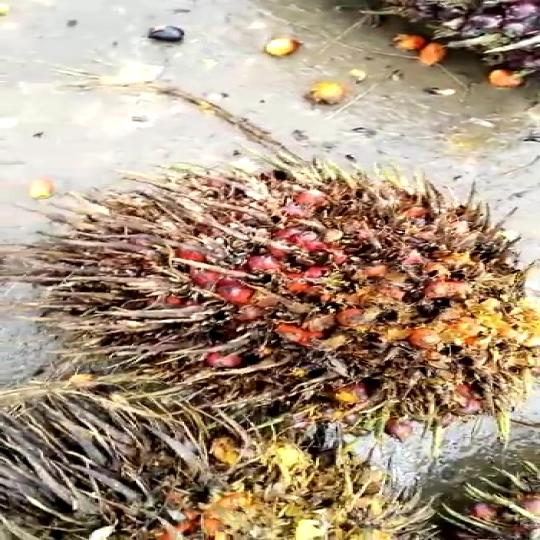terlalu masak: (19, 144, 540, 452)
